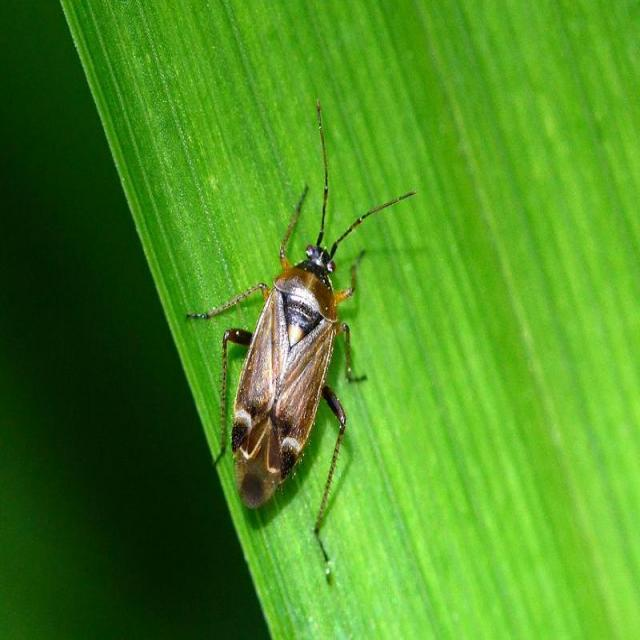Miridae-Adult-: (181, 88, 392, 580)
